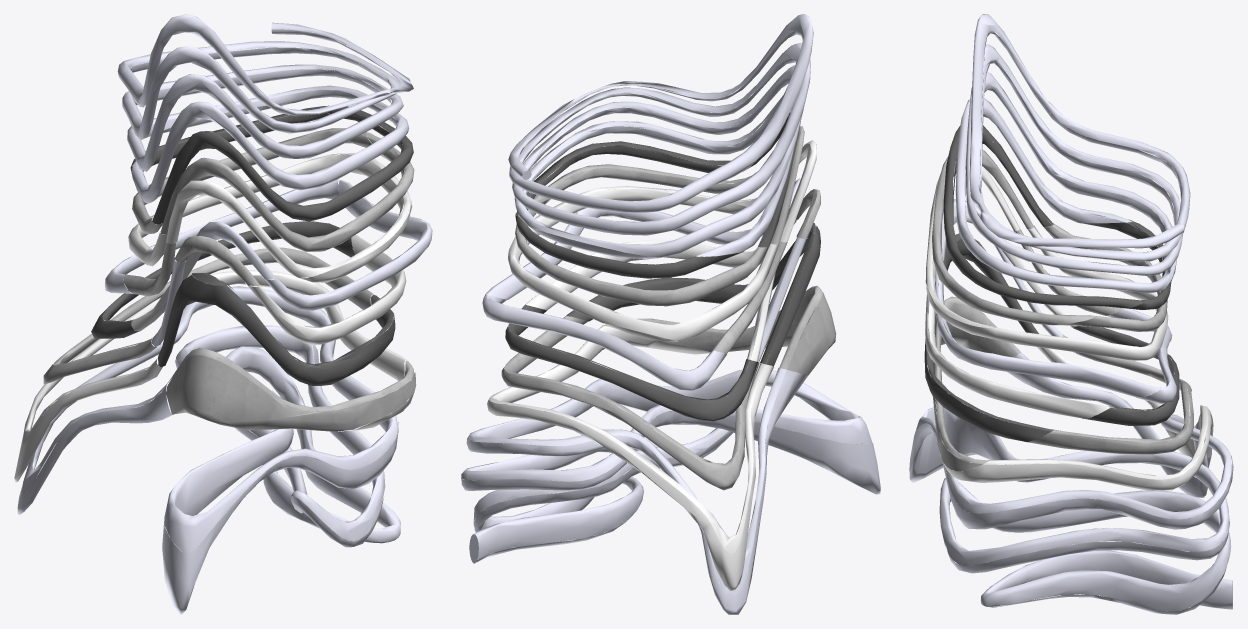
The model's file is Booth4_Tiger Ribcage - monoch.glb.
3 views of the same model, side by side, from view 1: azimuth 30°, elevation 25°; view 2: azimuth 150°, elevation 25°; view 3: azimuth 270°, elevation 25° (orthographic). The views are drawn at different scales.
Visible parts, largest first — view 1: KaplanGogsu; view 2: KaplanGogsu; view 3: KaplanGogsu.
Boxes of the visible parts, left/top/right/bottom form: KaplanGogsu: left=14, top=14, right=432, bottom=614; KaplanGogsu: left=461, top=14, right=880, bottom=614; KaplanGogsu: left=909, top=14, right=1233, bottom=614.
Size of the model in its own units: 4.52 by 8.11 by 4.73.
Materials: 4 (1 with a texture image).
